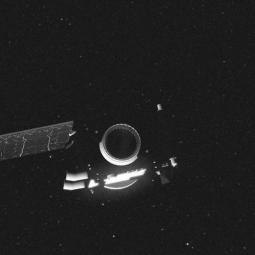proba_3_csc: (0, 108, 192, 196)
